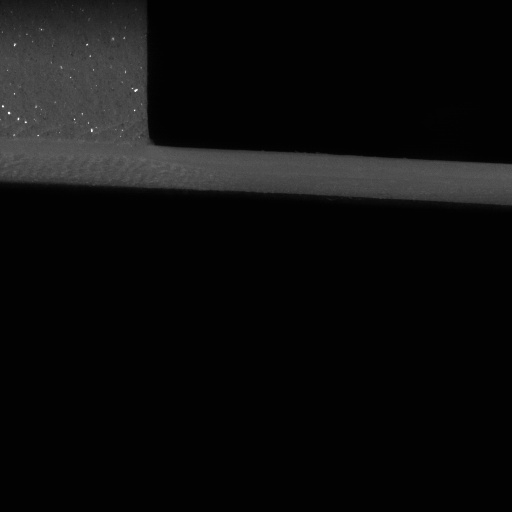changdai: (151, 145, 511, 209)
